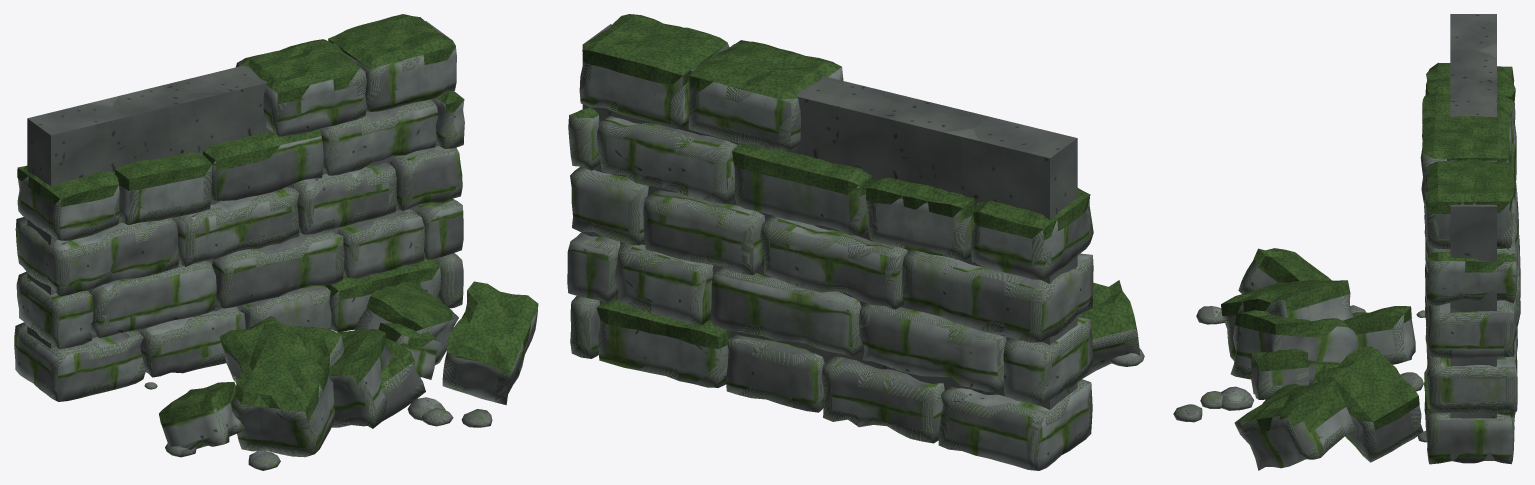
The model's file is mod_wall_collapsed_4m.glb.
3 views of the same model, side by side, from view 1: azimuth 30°, elevation 25°; view 2: azimuth 150°, elevation 25°; view 3: azimuth 270°, elevation 25° (orthographic). The views are drawn at different scales.
Visible parts, largest first — view 1: mod_wall_collapsed_4m__stone_wall, mod_wall_collapsed_4m__moss, mod_wall_collapsed_4m__stone_dark, mod_wall_collapsed_4m__stone_block; view 2: mod_wall_collapsed_4m__stone_wall, mod_wall_collapsed_4m__stone_dark, mod_wall_collapsed_4m__moss; view 3: mod_wall_collapsed_4m__stone_wall, mod_wall_collapsed_4m__moss, mod_wall_collapsed_4m__stone_dark, mod_wall_collapsed_4m__stone_block.
Boxes of the visible parts, x1,y1,x2,y2 form: mod_wall_collapsed_4m__stone_wall: [14, 47, 538, 457]; mod_wall_collapsed_4m__moss: [17, 14, 538, 424]; mod_wall_collapsed_4m__stone_dark: [27, 21, 448, 348]; mod_wall_collapsed_4m__stone_block: [144, 382, 492, 470]; mod_wall_collapsed_4m__stone_wall: [567, 40, 1140, 470]; mod_wall_collapsed_4m__stone_dark: [582, 24, 1077, 409]; mod_wall_collapsed_4m__moss: [569, 14, 1138, 348]; mod_wall_collapsed_4m__stone_wall: [1222, 84, 1520, 470]; mod_wall_collapsed_4m__moss: [1221, 62, 1515, 432]; mod_wall_collapsed_4m__stone_dark: [1450, 14, 1496, 460]; mod_wall_collapsed_4m__stone_block: [1173, 305, 1426, 442].
Size of the model in its own units: 4.07 by 2.74 by 2.97.
4 materials, 4 textured.
